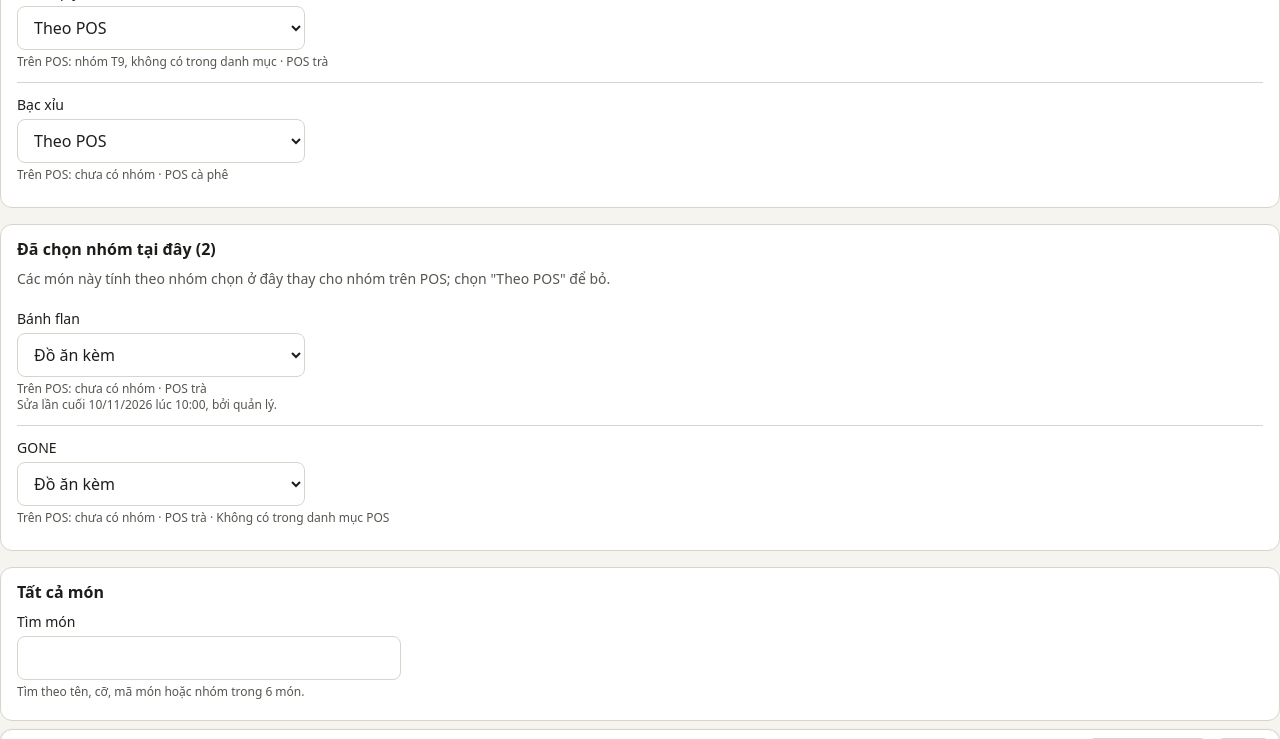
Test: CategoriesForm › searches every item without Vietnamese marks, uncategorised first, and says when nothing matches
(page scrolled)
Type "banh" into the search field labelled "Tìm món" at (209, 658), box [17,636,401,680]
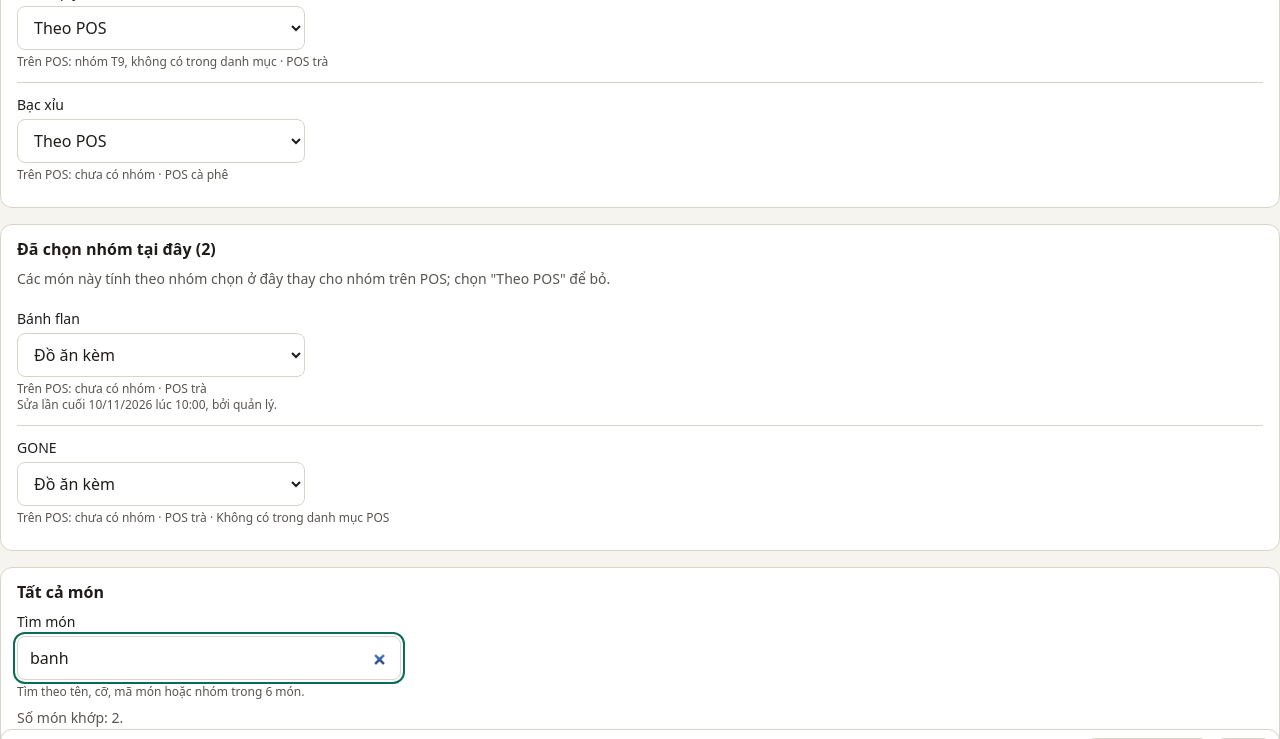
Result: the message reads "Số món khớp: 2." at [17,708,123,727]
Replace the text in the search field labelled "Tìm món" with "tra l" at (209, 658), box [17,636,401,680]
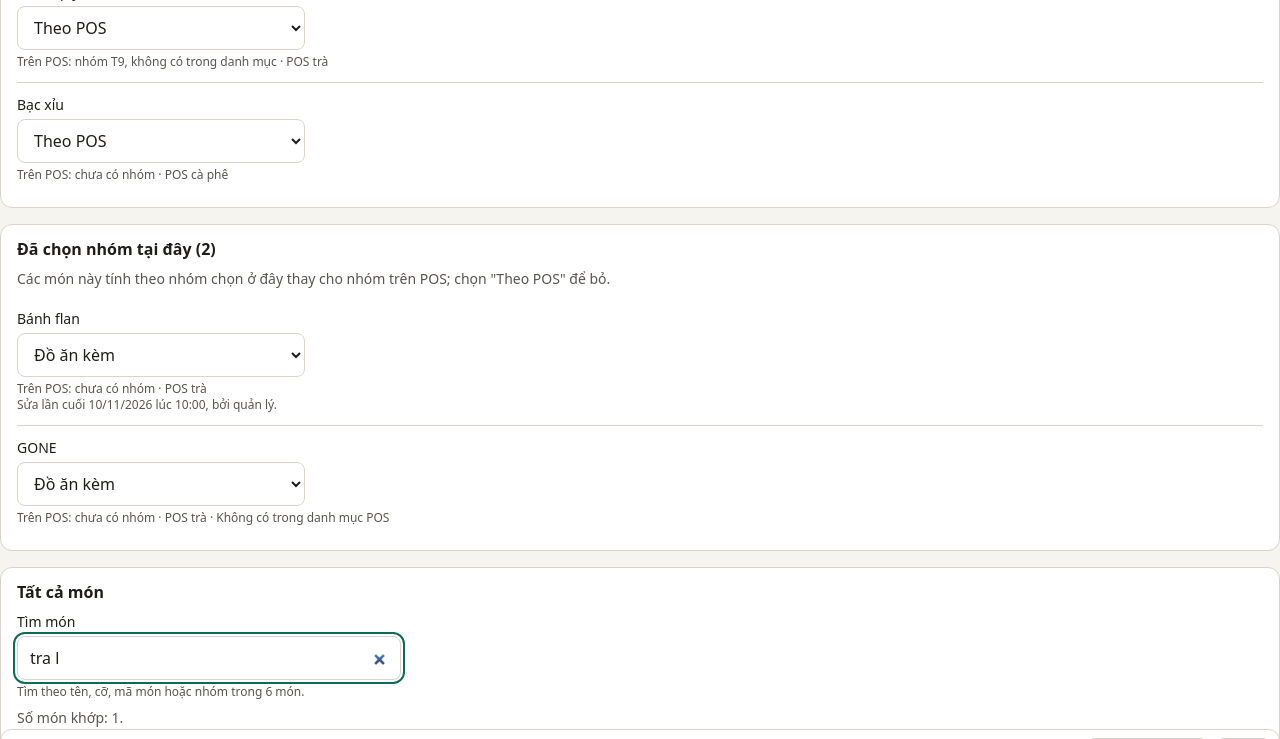
Replace the text in the search field labelled "Tìm món" with "khong co" at (209, 658), box [17,636,401,680]
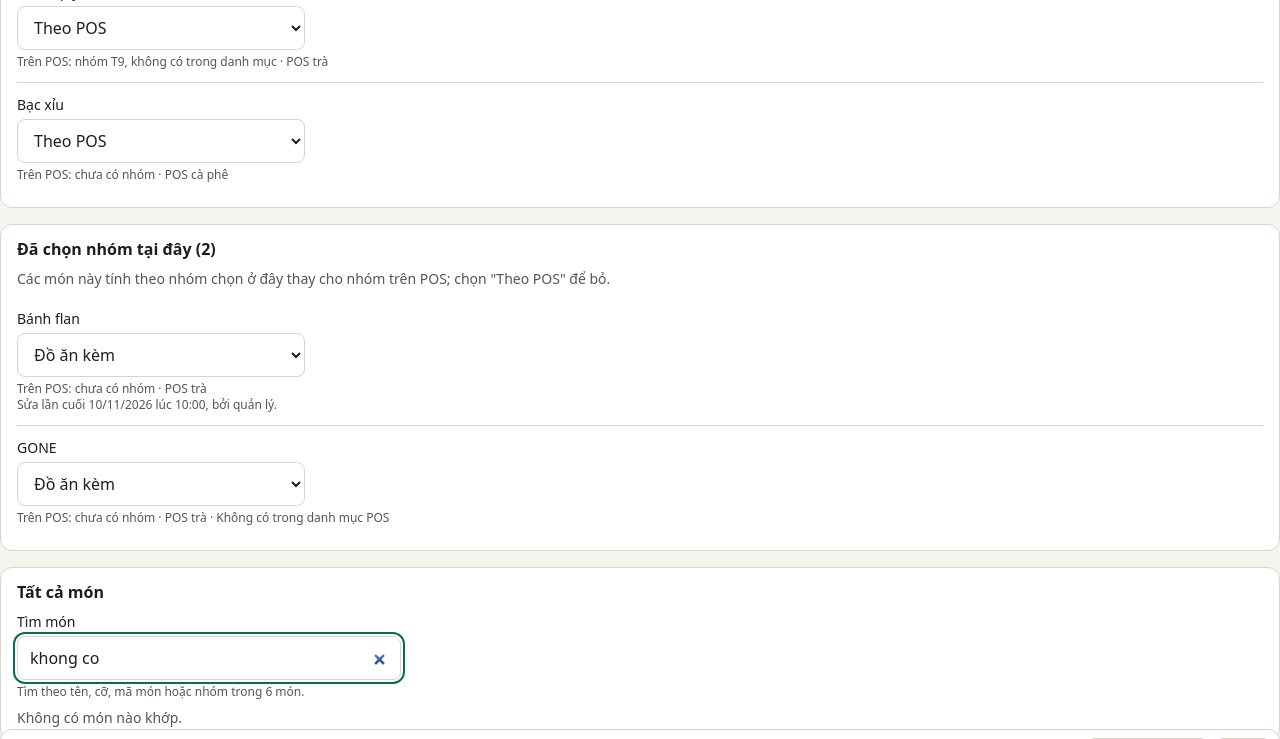
Result: the message reads "Không có món nào khớp." at [17,708,182,727]
